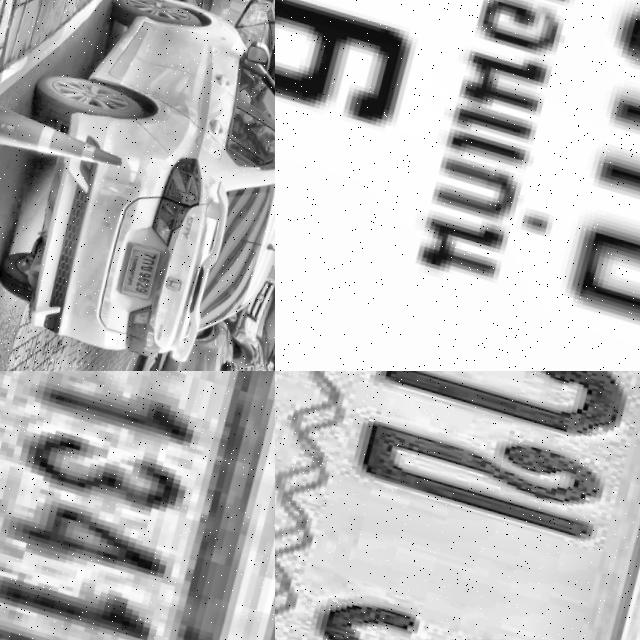license-plate: (275, 0, 640, 371), (275, 371, 640, 640), (0, 371, 275, 640), (115, 227, 175, 297)
